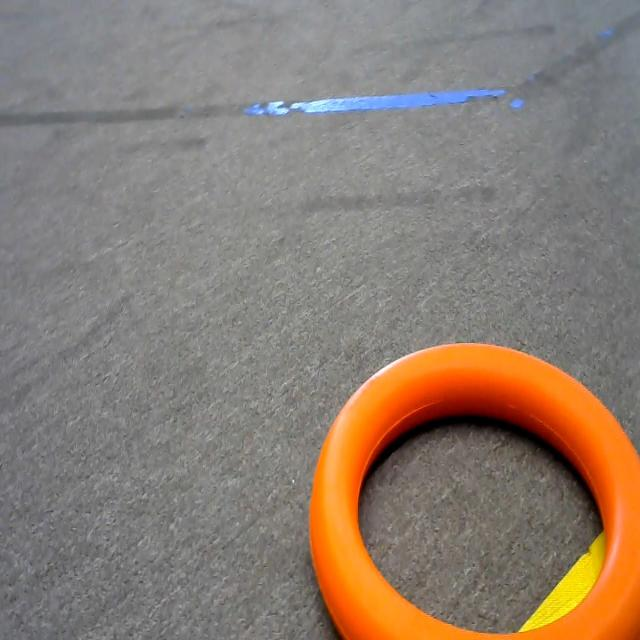note: (305, 328, 640, 640)
